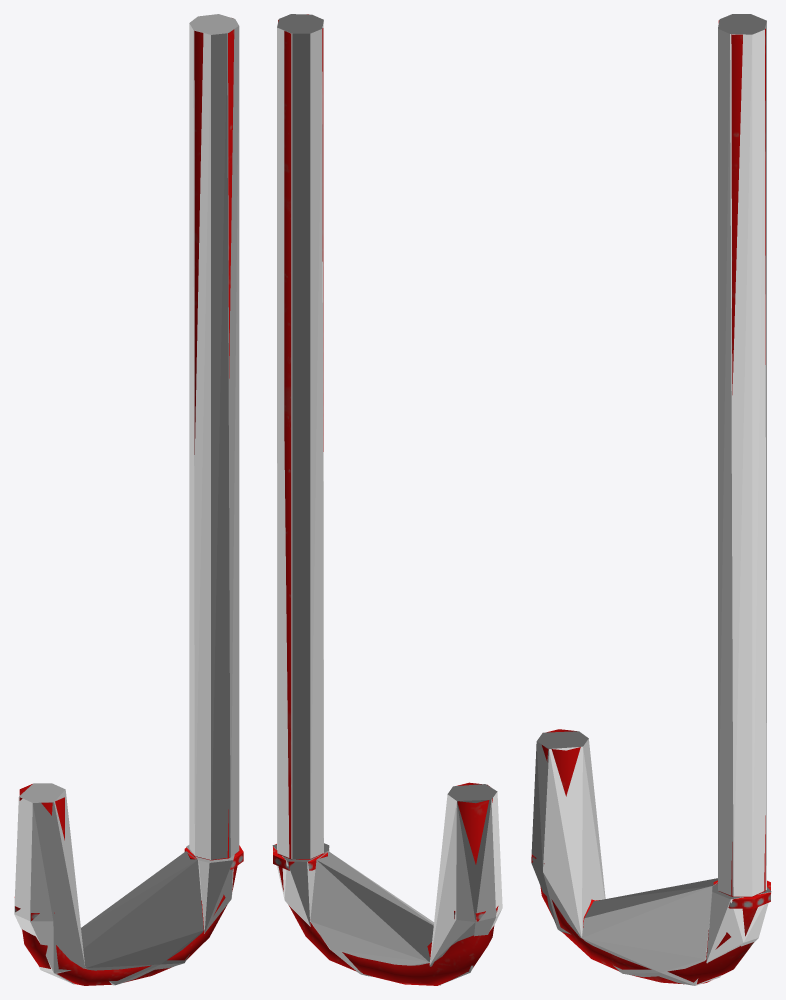
File: SM_FirePipe.fbx
The picture shows the model from 3 angles, left to right: view 1: azimuth 30°, elevation 25°; view 2: azimuth 150°, elevation 25°; view 3: azimuth 330°, elevation 25°; orthographic projection. The views are drawn at different scales.
Visible parts, largest first — view 1: SM_FirePipe_ConvexHulls, SM_FirePipe; view 2: SM_FirePipe_ConvexHulls, SM_FirePipe; view 3: SM_FirePipe_ConvexHulls, SM_FirePipe.
Part boxes in pixels (box(x1,y1,x2,y2)): SM_FirePipe_ConvexHulls: box(14, 14, 239, 985); SM_FirePipe: box(14, 29, 243, 985); SM_FirePipe_ConvexHulls: box(272, 14, 502, 985); SM_FirePipe: box(273, 14, 498, 985); SM_FirePipe_ConvexHulls: box(531, 14, 771, 985); SM_FirePipe: box(531, 20, 770, 984).
Bounding box in the file's own units: 62.49 × 14.51 × 249.
2 materials, 1 textured.
